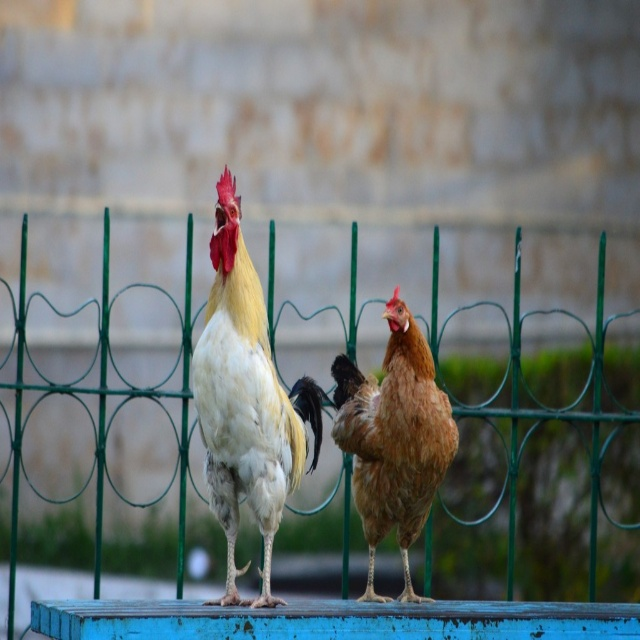Chicken: (184, 166, 327, 595), (332, 283, 458, 606)
